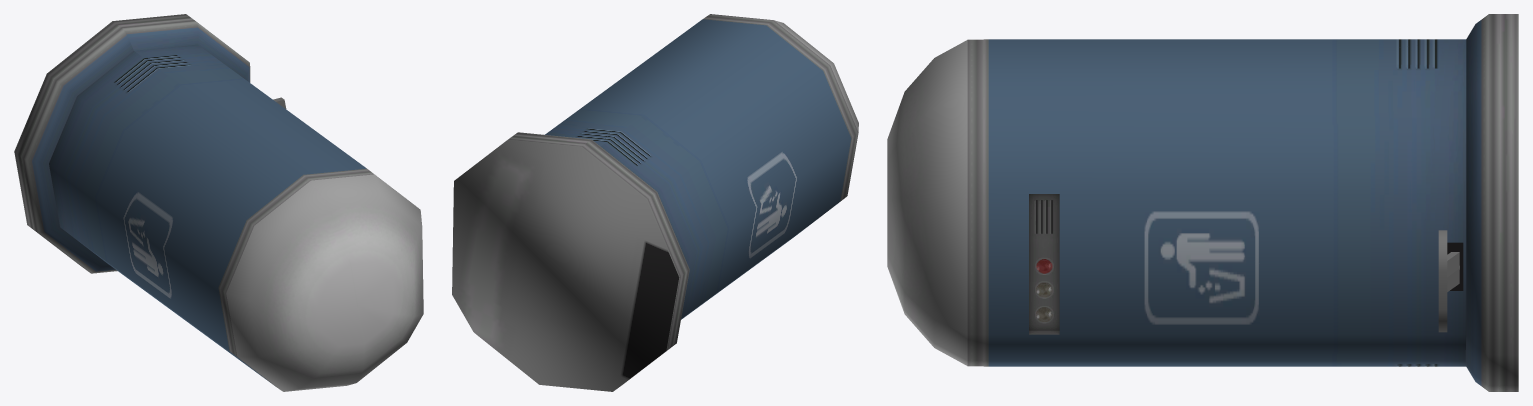
File: nt_trash_compactor_blue_LOD1.obj
3 renders of one model, left to right at view 1: azimuth 30°, elevation 25°; view 2: azimuth 150°, elevation 25°; view 3: azimuth 270°, elevation 25°, orthographic. The views are drawn at different scales.
Parts seen in each view (by area): view 1: mtl_nt_trash_compactor; view 2: mtl_nt_trash_compactor; view 3: mtl_nt_trash_compactor.
Boxes of the visible parts, x1,y1,x2,y2 form: mtl_nt_trash_compactor: (14, 14, 423, 391); mtl_nt_trash_compactor: (452, 14, 858, 391); mtl_nt_trash_compactor: (887, 14, 1518, 391).
Size of the model in its own units: 60.02 by 57.85 by 94.8.
